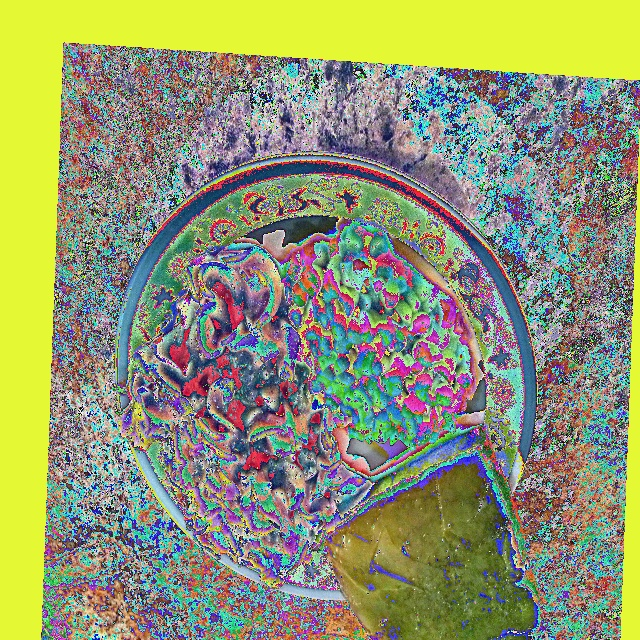background: (119, 224, 542, 639)
